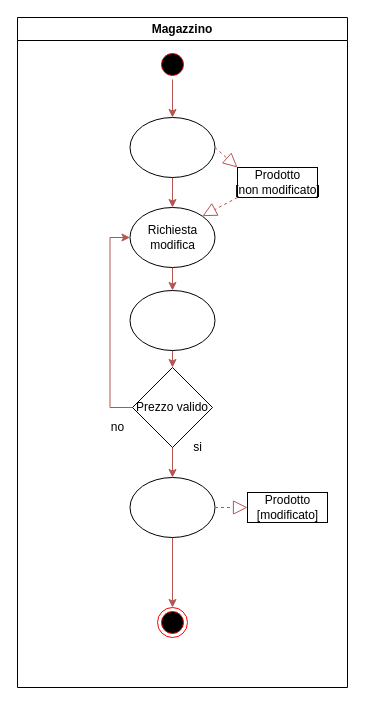
This 365x705 diagram has some shape labels left out. The box of each missing label's shape, as (x1, y1, x2, y2) in pixels:
Modifica prezzo: (129, 476, 215, 538)
Ricerca prodotto: (129, 116, 215, 178)
Validazione prezzo: (129, 290, 215, 350)
